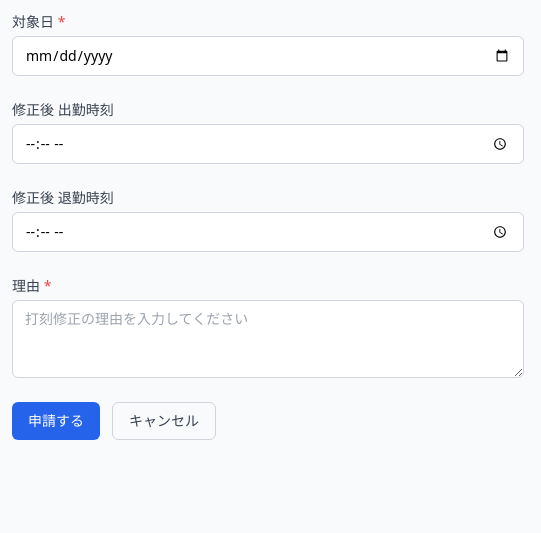
Test: ClockFixForm › 対象日が未入力の場合エラーメッセージを表示する
The width and height of the screenshot is (541, 533).
Type "打刻忘れ" into the text box labelled "理由 *" at x=268, y=339, box x1=12 y1=300 x2=524 y2=378
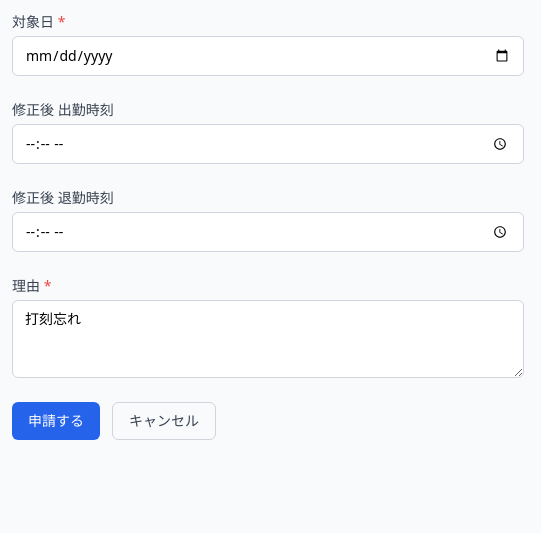
Click the button "申請する" at x=56, y=421, box x1=12 y1=402 x2=100 y2=440
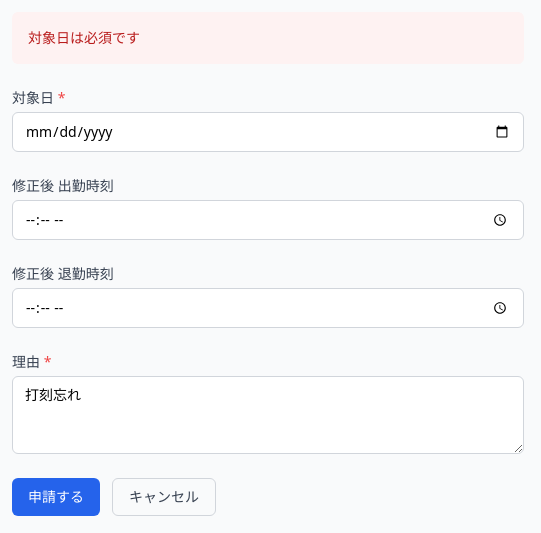
Expected: the message reads "対象日は必須です", x1=28 y1=28 x2=140 y2=47
